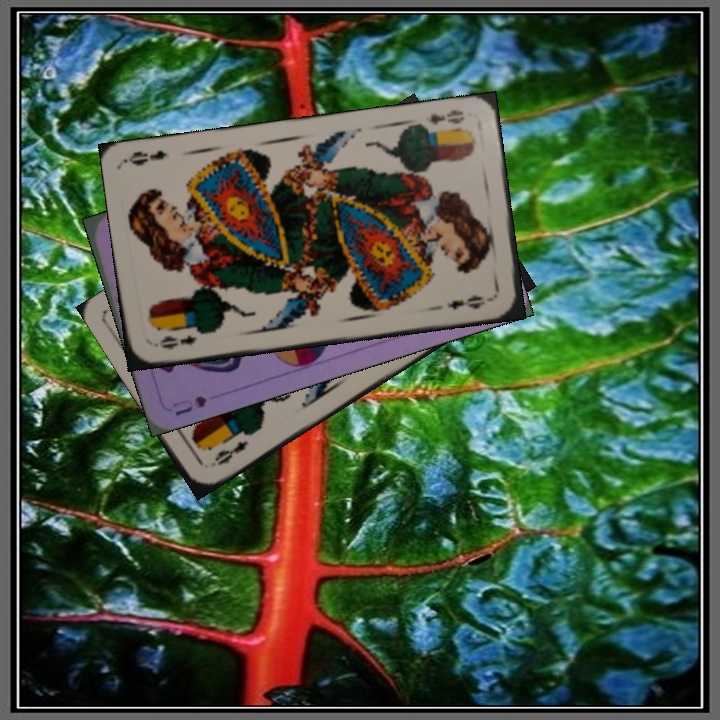EO: (205, 436, 251, 471), (421, 105, 467, 127), (156, 331, 199, 352)
SU: (168, 391, 210, 418)
